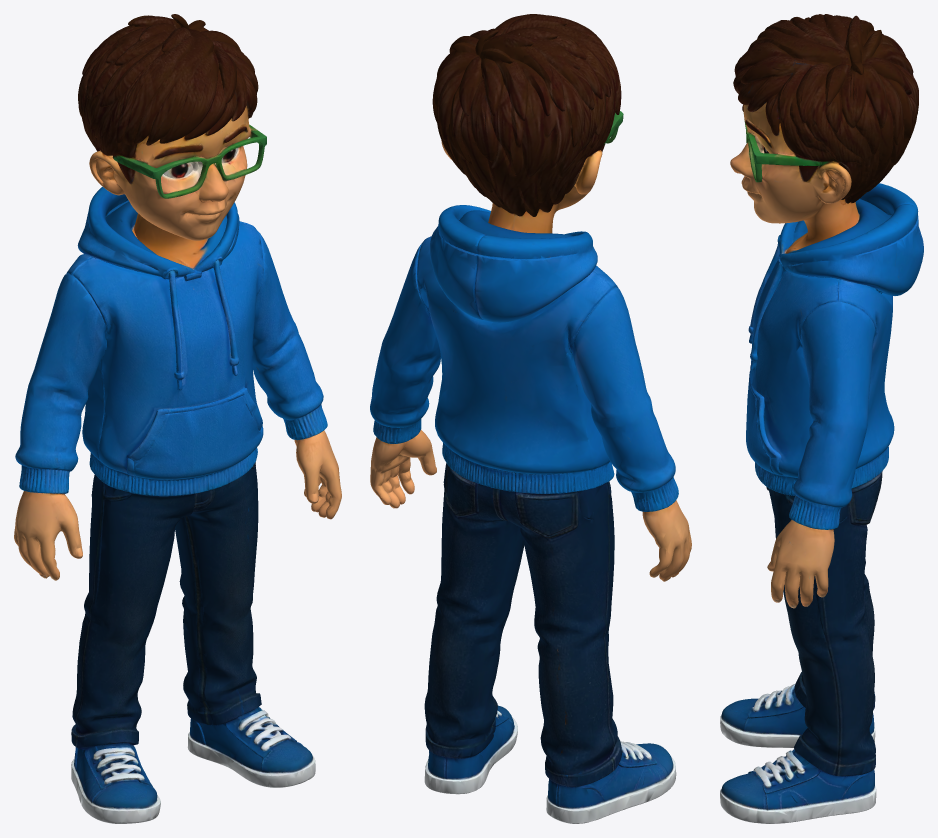
3 views of the same model, side by side, from view 1: azimuth 30°, elevation 25°; view 2: azimuth 150°, elevation 25°; view 3: azimuth 270°, elevation 25° (orthographic). The views are drawn at different scales.
Visible parts, largest first — view 1: model; view 2: model; view 3: model.
Boxes of the visible parts, x1=… form: model: x1=14, y1=14, x2=341, y2=823; model: x1=370, y1=14, x2=691, y2=823; model: x1=720, y1=14, x2=923, y2=823.
Size of the model in its own units: 0.8216 by 1.9 by 0.4684.
1 material, 1 textured.
